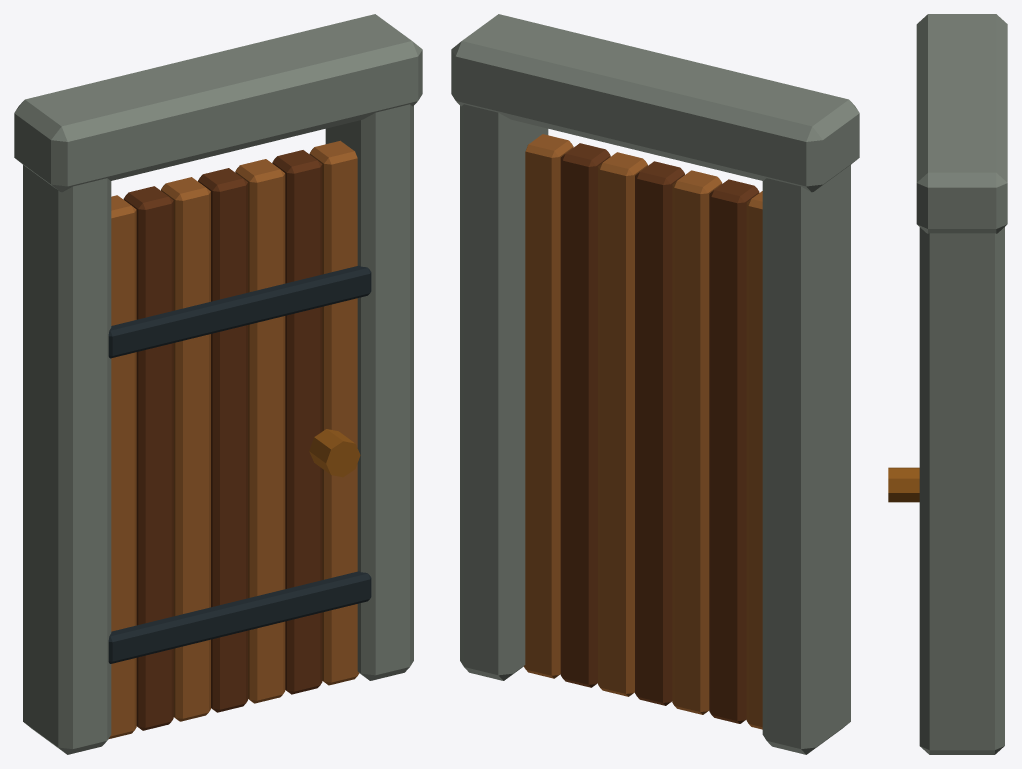
File: Porta_de_madeira_LOD0.fbx
The picture shows the model from 3 angles, left to right: view 1: azimuth 30°, elevation 25°; view 2: azimuth 150°, elevation 25°; view 3: azimuth 270°, elevation 25°; orthographic projection. The views are drawn at different scales.
Parts seen in each view (by area): view 1: Porta_de_madeira_LOD0; view 2: Porta_de_madeira_LOD0; view 3: Porta_de_madeira_LOD0.
Part boxes in pixels (bbox=[...]): Porta_de_madeira_LOD0: bbox=[14, 14, 422, 754]; Porta_de_madeira_LOD0: bbox=[451, 14, 859, 754]; Porta_de_madeira_LOD0: bbox=[888, 14, 1007, 754].
Bounding box in the file's own units: 140 × 227 × 42.
Materials: 1 (1 with a texture image).
